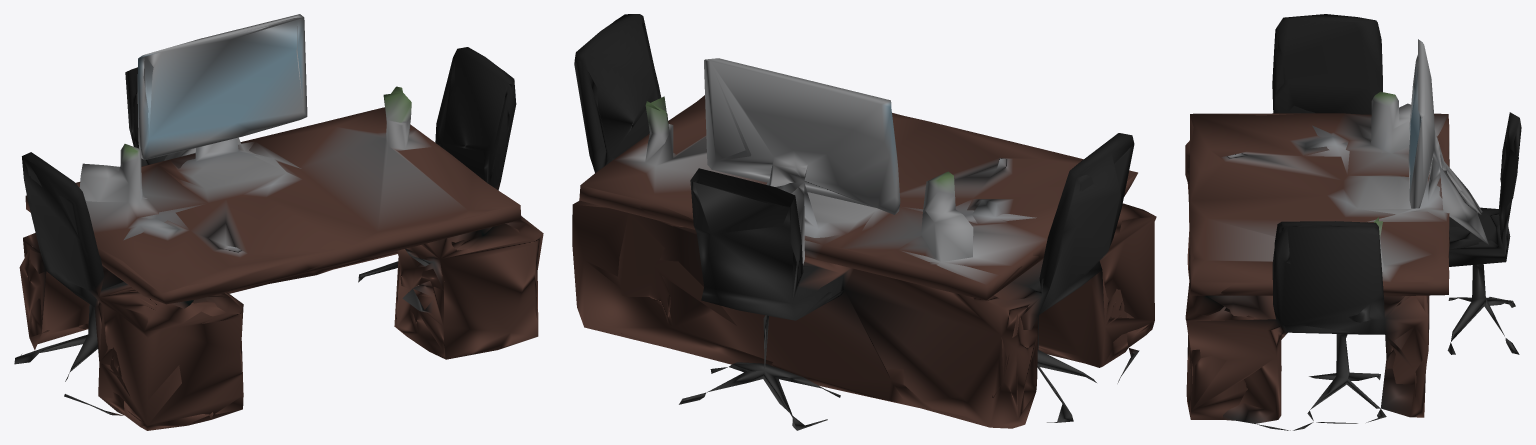
File: gen3d-office-lod0.glb
3 views of the same model, side by side, from view 1: azimuth 30°, elevation 25°; view 2: azimuth 150°, elevation 25°; view 3: azimuth 270°, elevation 25° (orthographic). The views are drawn at different scales.
Parts seen in each view (by area): view 1: part_0; view 2: part_0; view 3: part_0.
Boxes of the visible parts, bbox=[...] form: part_0: bbox=[14, 14, 543, 430]; part_0: bbox=[572, 14, 1156, 430]; part_0: bbox=[1185, 14, 1521, 430].
Size of the model in its own units: 1.77 by 0.9916 by 1.19.
